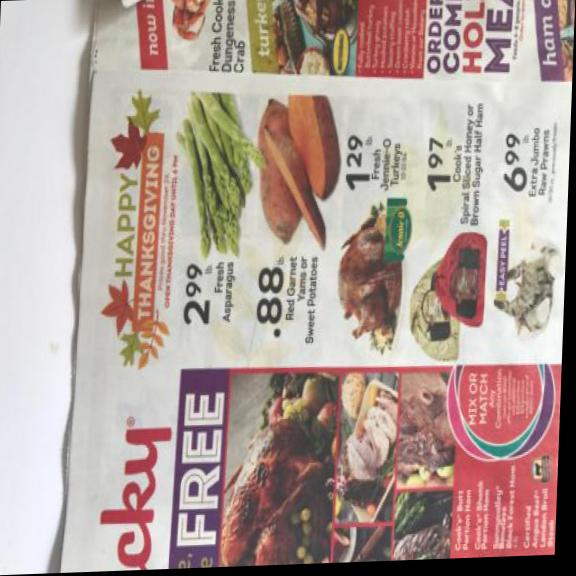Kertas: (59, 0, 576, 573)
